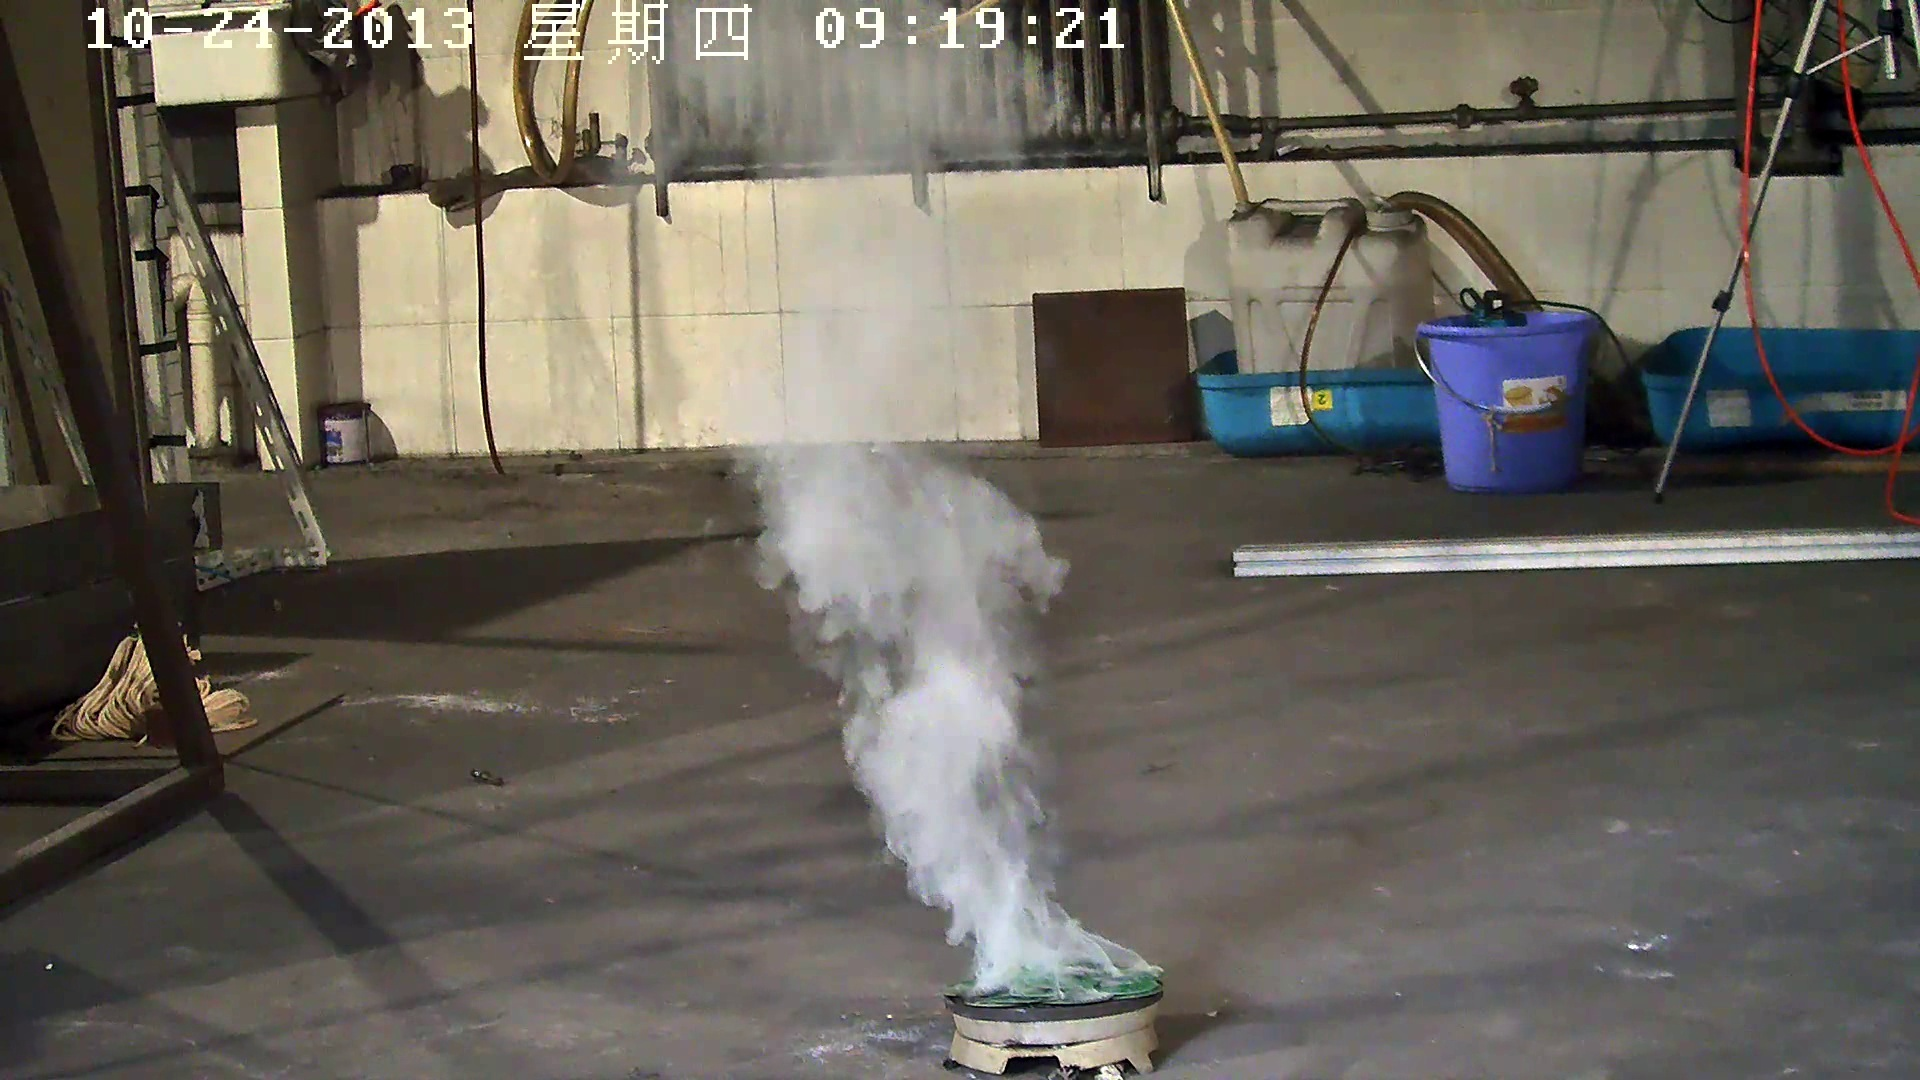smoke: (607, 13, 1127, 996)
